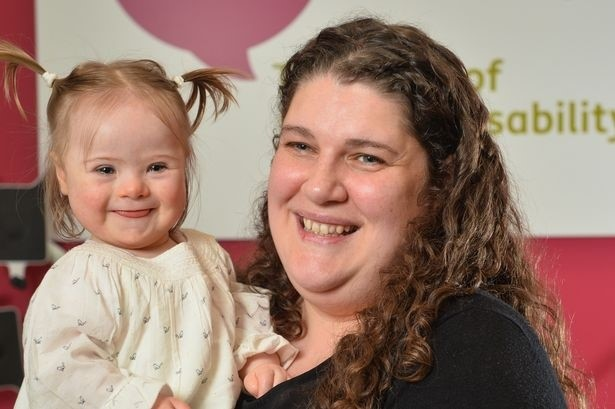face_no_mask: (262, 18, 484, 319), (49, 58, 191, 247)
